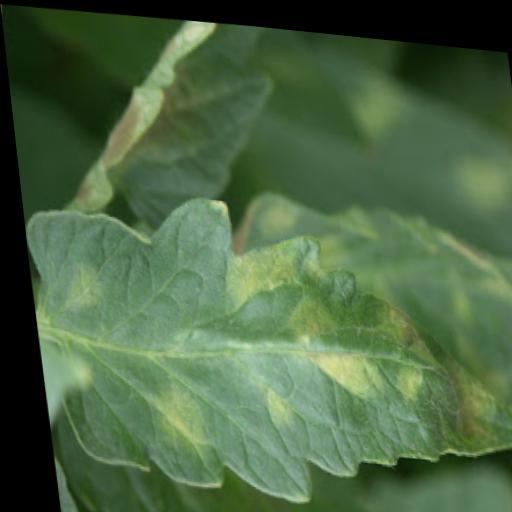Leaf Mold: (15, 171, 512, 512)
